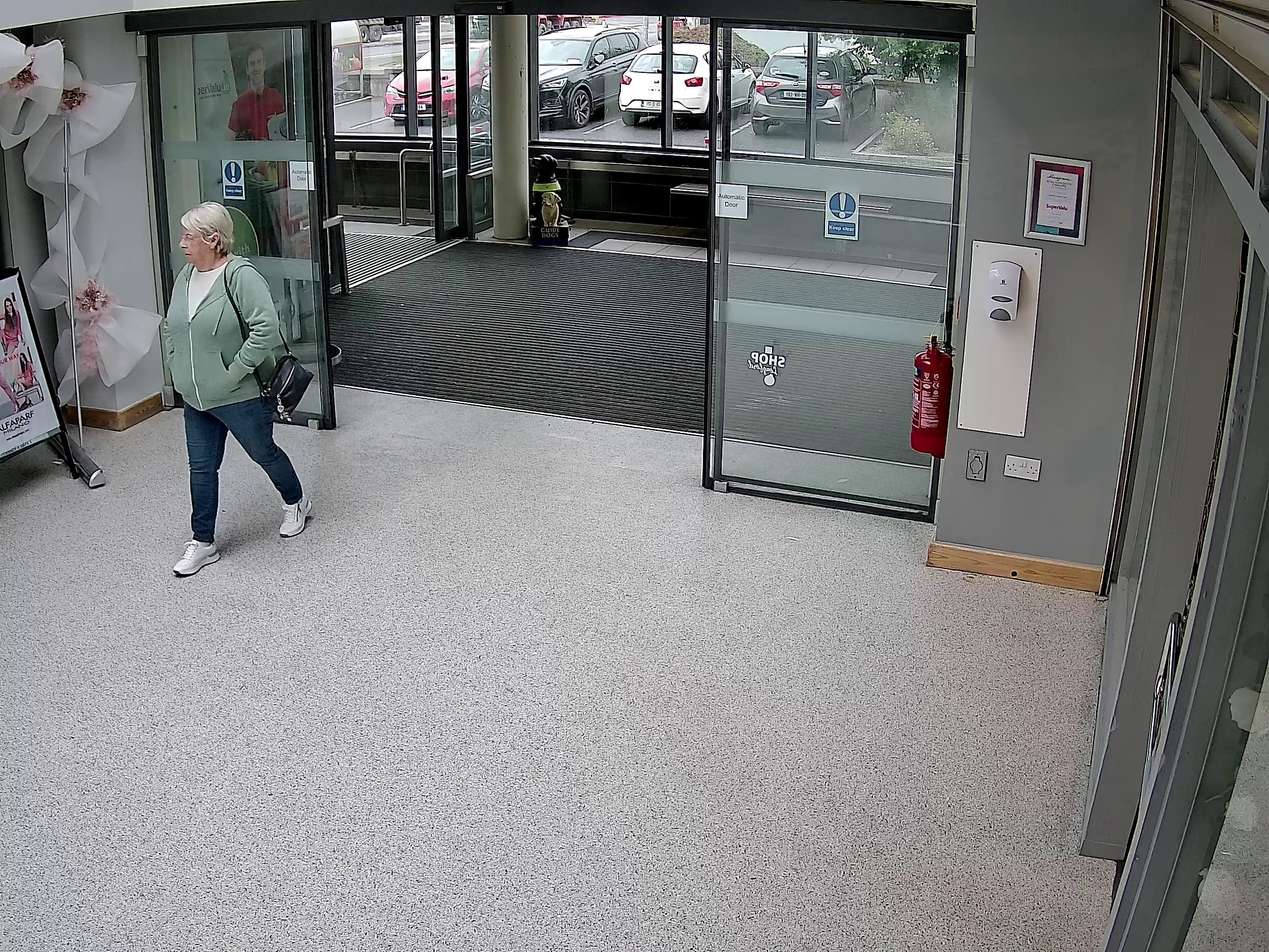backpack-or-handbag: (260, 355, 314, 421)
person: (164, 200, 312, 576)
person-with-backpack-handbag: (164, 200, 316, 576)
